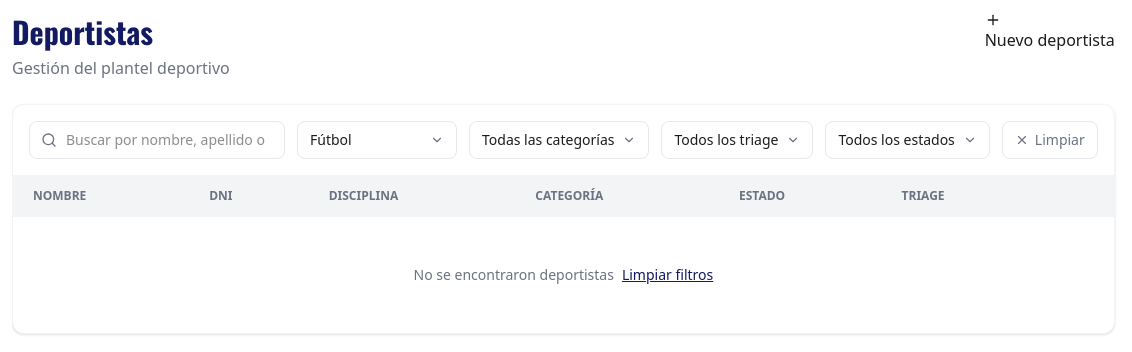
Scenario: DeportistasTable › anida el filtro de categoría al de disciplina: al elegir una disciplina se habilita y ofrece sus categorías
Expected: the field with placeholder "Buscar por nombre, apellido o DNI..." is shown, x1=29 y1=121 x2=285 y2=159
# Al abrirlo, muestra SOLO las categorías de la disciplina elegida (Fútbol).
Click the button "Todas las categorías" at x=559, y=140, box x1=469 y1=121 x2=650 y2=159
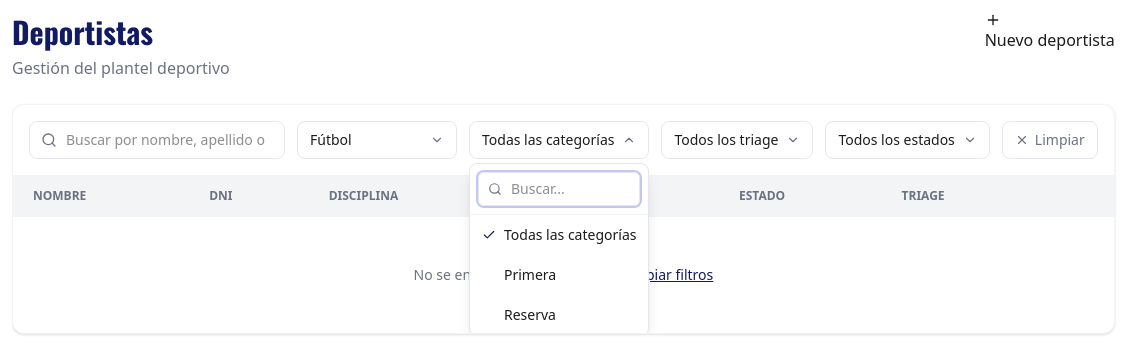
Expected: the text "Primera" is shown, x1=504 y1=265 x2=556 y2=285
Expected: the text "Reserva" is shown, x1=504 y1=305 x2=556 y2=325
